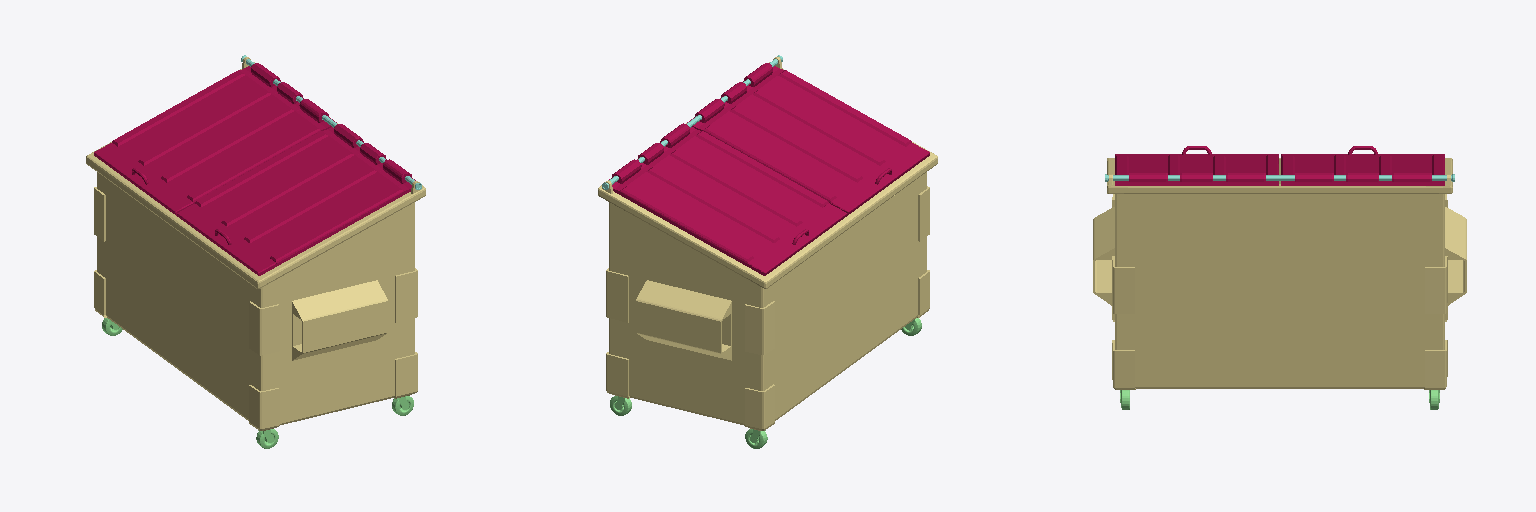
Rendered from container.obj.
3 views of the same model, side by side, from view 1: azimuth 30°, elevation 25°; view 2: azimuth 150°, elevation 25°; view 3: azimuth 270°, elevation 25° (orthographic).
Parts seen in each view (by area): view 1: Box001, Box002, Box003; view 2: Box001, Box003, Box002; view 3: Box001, Box002, Box003, Cylinder003.
Boxes of the visible parts, <box> form: Box001: <box>86,57,425,430</box>; Box002: <box>177,124,415,275</box>; Box003: <box>94,63,336,215</box>; Box001: <box>598,57,937,430</box>; Box003: <box>609,123,847,275</box>; Box002: <box>687,63,929,215</box>; Box001: <box>1093,158,1466,389</box>; Box002: <box>1115,154,1278,185</box>; Box003: <box>1281,154,1444,185</box>; Cylinder003: <box>1105,174,1454,181</box>.
Size of the model in its own units: 37.58 by 50.73 by 72.07.